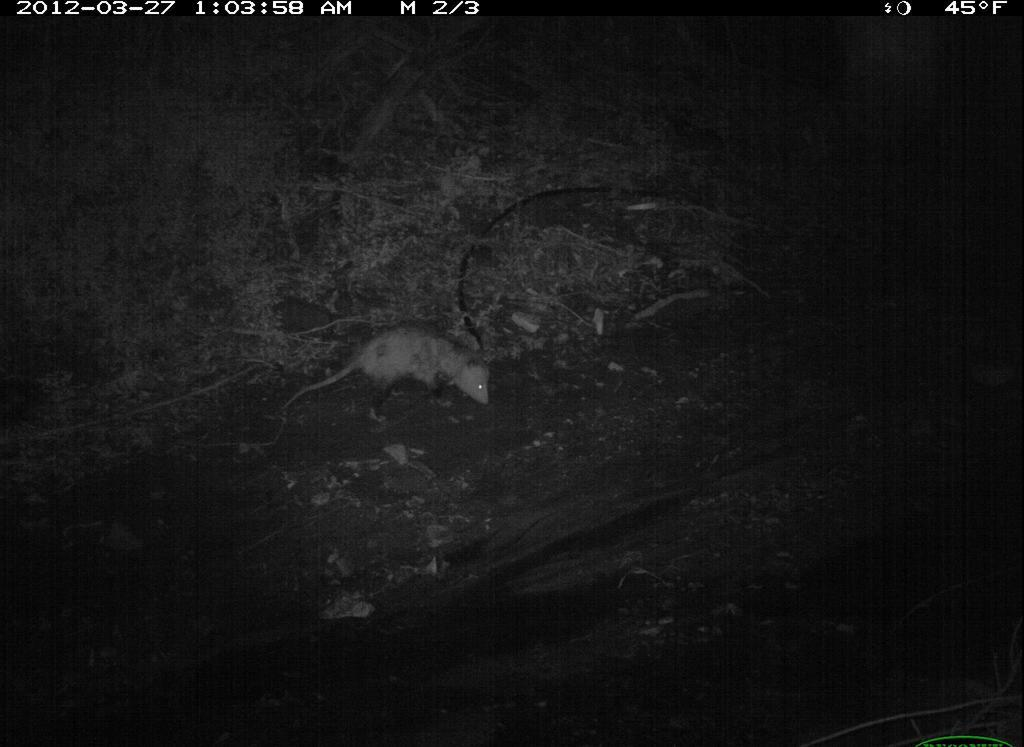opossum: (278, 321, 509, 442)
